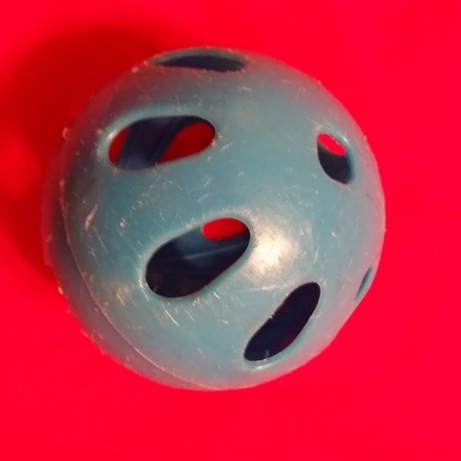blueball: (37, 41, 393, 397)
